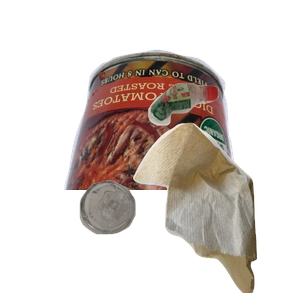glass: (77, 178, 205, 300)
metal: (62, 47, 300, 227)
plastic: (146, 80, 300, 198)
trash: (131, 120, 300, 300)
